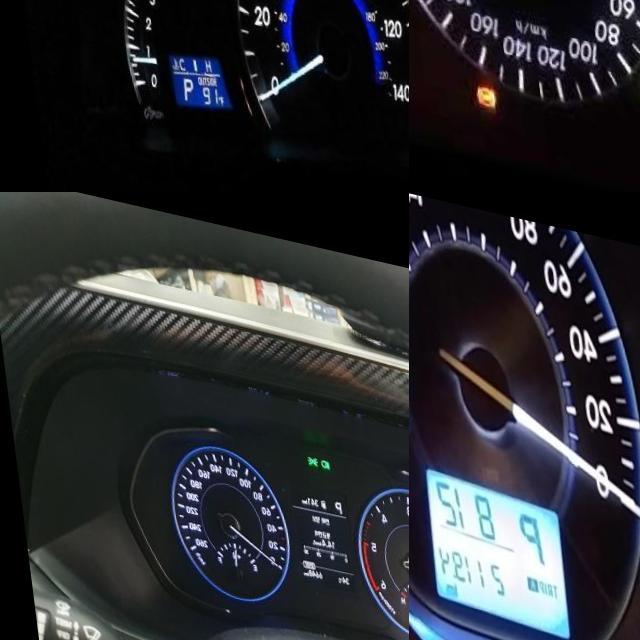Low beam: (315, 444, 325, 455)
SideLamp: (301, 441, 313, 453)
